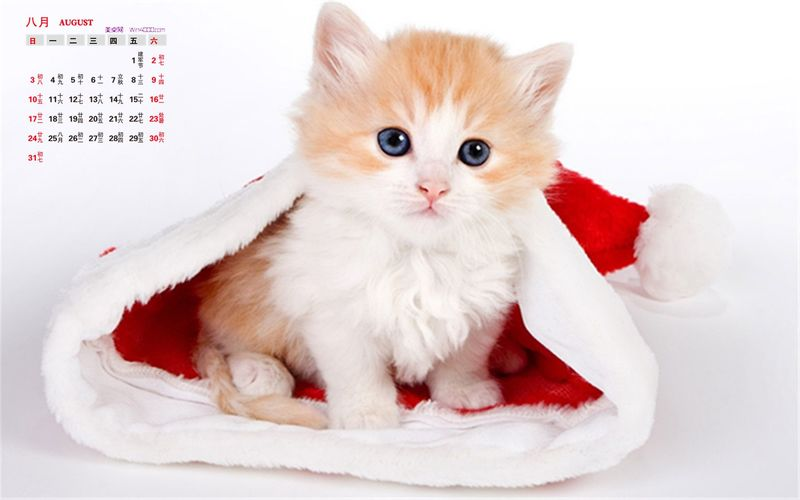cat: (286, 4, 590, 243)
